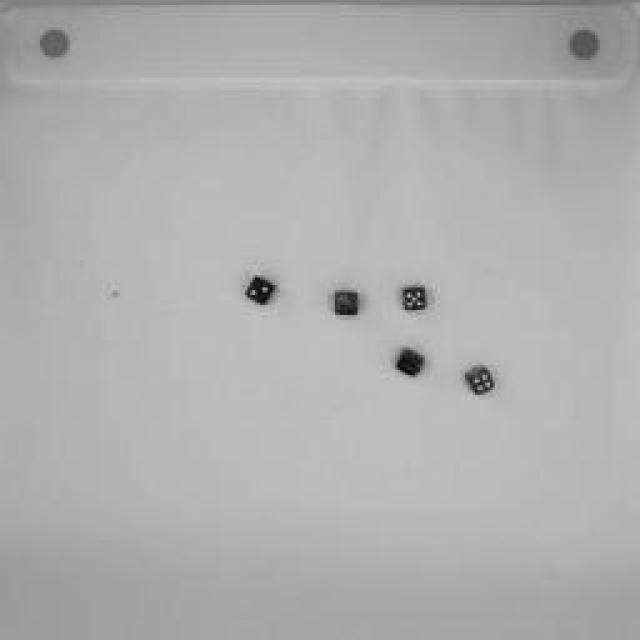dice_2: (245, 277, 277, 305), (334, 289, 364, 316)
dice_4: (466, 365, 492, 395)
dice_5: (404, 285, 426, 313)
dice_6: (395, 345, 425, 380)
